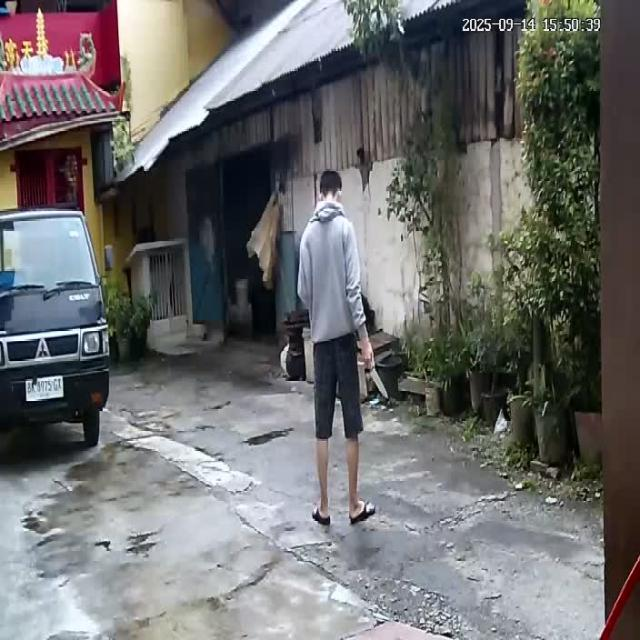senjata_tajam: (367, 366, 391, 402)
